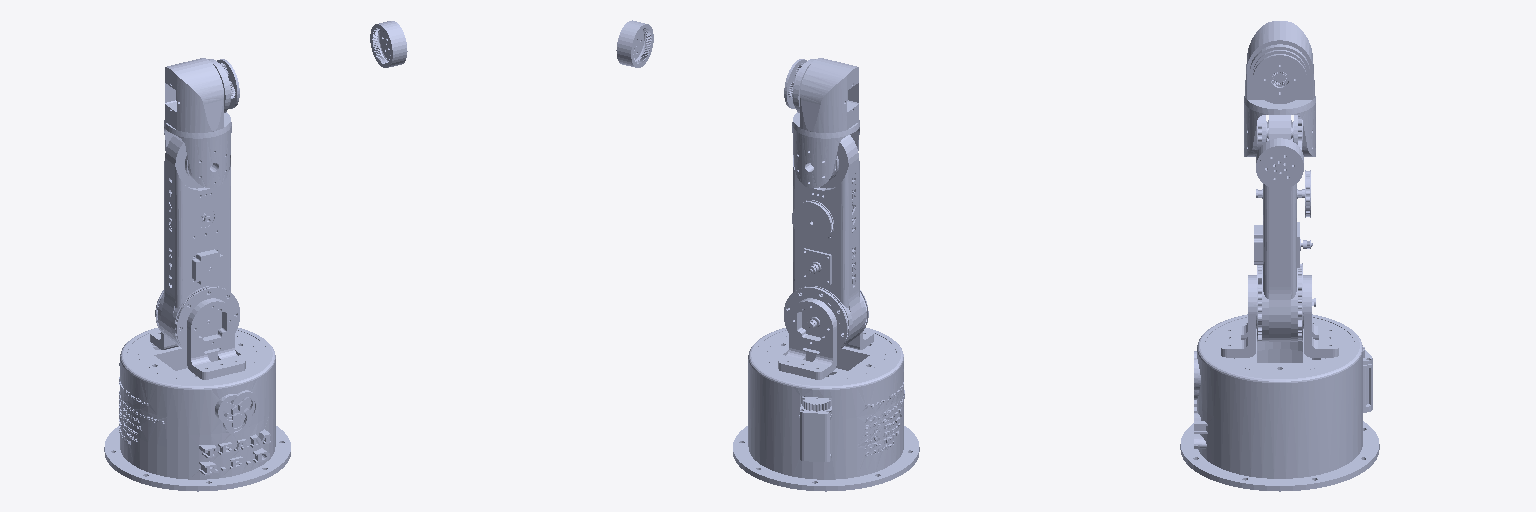
The robot description file, URDF, robot "armsix":
<?xml version="1.0" encoding="utf-8"?>
<!-- This URDF was automatically created by SolidWorks to URDF Exporter! Originally created by [author] ([email redacted]) 
     Commit Version: 1.6.0-4-g7f85cfe  Build Version: 1.6.7995.38578
     For more information, please see http://wiki.ros.org/sw_urdf_exporter -->
<robot
  name="armsix">
  <link
    name="base">
    <inertial>
      <origin
        xyz="-0.00385031800488411 0.0062245431164105 0.0681970092717085"
        rpy="0 0 0" />
      <mass
        value="3.08904588823227" />
      <inertia
        ixx="0.0143862444972223"
        ixy="3.22704267160911E-05"
        ixz="-0.000106534248515888"
        iyy="0.0143811632198707"
        iyz="3.33909583435944E-05"
        izz="0.0098663438527093" />
    </inertial>
    <visual>
      <origin
        xyz="0 0 0"
        rpy="0 0 0" />
      <geometry>
        <mesh
          filename="package://armsix/meshes/base.STL" />
      </geometry>
      <material
        name="">
        <color
          rgba="0.792156862745098 0.819607843137255 0.933333333333333 1" />
      </material>
    </visual>
    <collision>
      <origin
        xyz="0 0 0"
        rpy="0 0 0" />
      <geometry>
        <mesh
          filename="package://armsix/meshes/base.STL" />
      </geometry>
    </collision>
  </link>
  <link
    name="link1">
    <inertial>
      <origin
        xyz="-7.58096465961427E-09 0.00207554487523605 0.141823515157977"
        rpy="0 0 0" />
      <mass
        value="2.70502236856166" />
      <inertia
        ixx="0.00917478008531025"
        ixy="8.00994911501963E-10"
        ixz="-5.10517377671915E-11"
        iyy="0.00923176669581605"
        iyz="0.000123968166655889"
        izz="0.00876778115050001" />
    </inertial>
    <visual>
      <origin
        xyz="0 0 0"
        rpy="0 0 0" />
      <geometry>
        <mesh
          filename="package://armsix/meshes/link1.STL" />
      </geometry>
      <material
        name="">
        <color
          rgba="0.792156862745098 0.819607843137255 0.933333333333333 1" />
      </material>
    </visual>
    <collision>
      <origin
        xyz="0 0 0"
        rpy="0 0 0" />
      <geometry>
        <mesh
          filename="package://armsix/meshes/link1.STL" />
      </geometry>
    </collision>
  </link>
  <joint
    name="joint1"
    type="continuous">
    <origin
      xyz="0 0 0.0225"
      rpy="0 0 0" />
    <parent
      link="base" />
    <child
      link="link1" />
    <axis
      xyz="0 0 1" />
  </joint>
  <link
    name="link2">
    <inertial>
      <origin
        xyz="0.000156427958160009 0.0006801405642061 0.148807939258918"
        rpy="0 0 0" />
      <mass
        value="2.22728017790535" />
      <inertia
        ixx="0.00683467265425156"
        ixy="3.34600120286605E-07"
        ixz="9.10678561378845E-07"
        iyy="0.00889353253461944"
        iyz="1.42901914390828E-08"
        izz="0.00303431558052376" />
    </inertial>
    <visual>
      <origin
        xyz="0 0 0"
        rpy="0 0 0" />
      <geometry>
        <mesh
          filename="package://armsix/meshes/link2.STL" />
      </geometry>
      <material
        name="">
        <color
          rgba="0.792156862745098 0.819607843137255 0.933333333333333 1" />
      </material>
    </visual>
    <collision>
      <origin
        xyz="0 0 0"
        rpy="0 0 0" />
      <geometry>
        <mesh
          filename="package://armsix/meshes/link2.STL" />
      </geometry>
    </collision>
  </link>
  <joint
    name="joint2"
    type="revolute">
    <origin
      xyz="0 0 0.2465"
      rpy="0 0 0" />
    <parent
      link="link1" />
    <child
      link="link2" />
    <axis
      xyz="0 1 0" />
    <limit
      lower="-1.57"
      upper="1.57"
      effort="0"
      velocity="0" />
  </joint>
  <link
    name="link3">
    <inertial>
      <origin
        xyz="-0.000990348356228213 0.00102857084141682 0.0856661049030437"
        rpy="0 0 0" />
      <mass
        value="1.41689003296651" />
      <inertia
        ixx="0.00261452739041796"
        ixy="-8.62490348867795E-10"
        ixz="1.56633163356469E-06"
        iyy="0.00191462061460724"
        iyz="1.21053408375965E-08"
        izz="0.00207736387673544" />
    </inertial>
    <visual>
      <origin
        xyz="0 0 0"
        rpy="0 0 0" />
      <geometry>
        <mesh
          filename="package://armsix/meshes/link3.STL" />
      </geometry>
      <material
        name="">
        <color
          rgba="0.792156862745098 0.819607843137255 0.933333333333333 1" />
      </material>
    </visual>
    <collision>
      <origin
        xyz="0 0 0"
        rpy="0 0 0" />
      <geometry>
        <mesh
          filename="package://armsix/meshes/link3.STL" />
      </geometry>
    </collision>
  </link>
  <joint
    name="joint3"
    type="revolute">
    <origin
      xyz="-2.0052E-05 -0.0010281 0.31018"
      rpy="0 0 0" />
    <parent
      link="link2" />
    <child
      link="link3" />
    <axis
      xyz="0 1 0" />
    <limit
      lower="-1.57"
      upper="1.57"
      effort="0"
      velocity="0" />
  </joint>
  <link
    name="link4">
    <inertial>
      <origin
        xyz="0.139734017536537 0.000250004128133102 4.66141038933943E-05"
        rpy="0 0 0" />
      <mass
        value="1.47106339871206" />
      <inertia
        ixx="0.00166104178764195"
        ixy="-5.25942535488656E-05"
        ixz="-0.000231538431764538"
        iyy="0.00530152327017035"
        iyz="-1.60973414097723E-05"
        izz="0.00571916986427762" />
    </inertial>
    <visual>
      <origin
        xyz="0 0 0"
        rpy="0 0 0" />
      <geometry>
        <mesh
          filename="package://armsix/meshes/link4.STL" />
      </geometry>
      <material
        name="">
        <color
          rgba="0.792156862745098 0.819607843137255 0.933333333333333 1" />
      </material>
    </visual>
    <collision>
      <origin
        xyz="0 0 0"
        rpy="0 0 0" />
      <geometry>
        <mesh
          filename="package://armsix/meshes/link4.STL" />
      </geometry>
    </collision>
  </link>
  <joint
    name="joint4"
    type="continuous">
    <origin
      xyz="0.032765 0.0010281 0.12482"
      rpy="0 0 0" />
    <parent
      link="link3" />
    <child
      link="link4" />
    <axis
      xyz="1 0 0" />
  </joint>
  <link
    name="link5">
    <inertial>
      <origin
        xyz="0.0105061101160415 7.0318327313217E-05 7.03363407895674E-05"
        rpy="0 0 0" />
      <mass
        value="0.167028363311909" />
      <inertia
        ixx="6.88660738661919E-05"
        ixy="4.32116047212438E-10"
        ixz="-8.08689217331644E-12"
        iyy="5.3502927473475E-05"
        iyz="6.67655502322775E-12"
        izz="5.46383889001893E-05" />
    </inertial>
    <visual>
      <origin
        xyz="0 0 0"
        rpy="0 0 0" />
      <geometry>
        <mesh
          filename="package://armsix/meshes/link5.STL" />
      </geometry>
      <material
        name="">
        <color
          rgba="0.792156862745098 0.819607843137255 0.933333333333333 1" />
      </material>
    </visual>
    <collision>
      <origin
        xyz="0 0 0"
        rpy="0 0 0" />
      <geometry>
        <mesh
          filename="package://armsix/meshes/link5.STL" />
      </geometry>
    </collision>
  </link>
  <joint
    name="joint5"
    type="revolute">
    <origin
      xyz="0.312 0 0"
      rpy="0 0 0" />
    <parent
      link="link4" />
    <child
      link="link5" />
    <axis
      xyz="0 -1 0" />
    <limit
      lower="-0.8"
      upper="0.8"
      effort="0"
      velocity="0" />
  </joint>
  <link
    name="end_effector">
    <inertial>
      <origin
        xyz="0.00458298577499539 4.6273058802581E-05 9.73833471595853E-05"
        rpy="0 0 0" />
      <mass
        value="0.0934826631207986" />
      <inertia
        ixx="9.0322333707339E-05"
        ixy="-6.95170856642556E-08"
        ixz="1.76631187585008E-08"
        iyy="4.94601755939655E-05"
        iyz="-9.05767788827389E-08"
        izz="4.95235389564169E-05" />
    </inertial>
    <visual>
      <origin
        xyz="0 0 0"
        rpy="0 0 0" />
      <geometry>
        <mesh
          filename="package://armsix/meshes/end_effector.STL" />
      </geometry>
      <material
        name="">
        <color
          rgba="0.792156862745098 0.819607843137255 0.933333333333333 1" />
      </material>
    </visual>
    <collision>
      <origin
        xyz="0 0 0"
        rpy="0 0 0" />
      <geometry>
        <mesh
          filename="package://armsix/meshes/end_effector.STL" />
      </geometry>
    </collision>
  </link>
  <joint
    name="joint6"
    type="continuous">
    <origin
      xyz="0.044 0 0"
      rpy="0 0 0" />
    <parent
      link="link5" />
    <child
      link="end_effector" />
    <axis
      xyz="1 0 0" />
  </joint>
</robot>

--- Render facts (derived) ---
Views: 3 orthographic renders of the robot side by side, from view 1: azimuth 30°, elevation 25°; view 2: azimuth 150°, elevation 25°; view 3: azimuth 270°, elevation 25°.
Model armsix with 7 links and 6 joints (3 revolute, 3 continuous), rooted at base, posed all joints at 0.
Links seen in each view (by area): view 1: base, link2, link1, link3, end_effector; view 2: base, link2, link1, link3, end_effector; view 3: base, link2, link3, link1, end_effector.
Boxes of the visible links, x1,y1,x2,y2 form: base: (104, 328, 290, 491); link2: (155, 135, 239, 350); link1: (127, 296, 267, 383); link3: (164, 58, 239, 187); end_effector: (370, 21, 407, 67); base: (733, 328, 919, 491); link2: (784, 135, 868, 350); link1: (756, 296, 896, 403); link3: (784, 58, 859, 187); end_effector: (616, 20, 653, 67); base: (1180, 314, 1379, 491); link2: (1254, 115, 1312, 341); link3: (1244, 21, 1315, 156); link1: (1205, 275, 1354, 376); end_effector: (1256, 138, 1303, 189).
Size in the robot's own frame: 0.5697 by 0.33 by 0.759 metres.
Meshes: 7 distinct files referenced, 5 mesh visuals loaded (5 binary STL); not drawn: 2 (reference not matched to a file when rendering).
